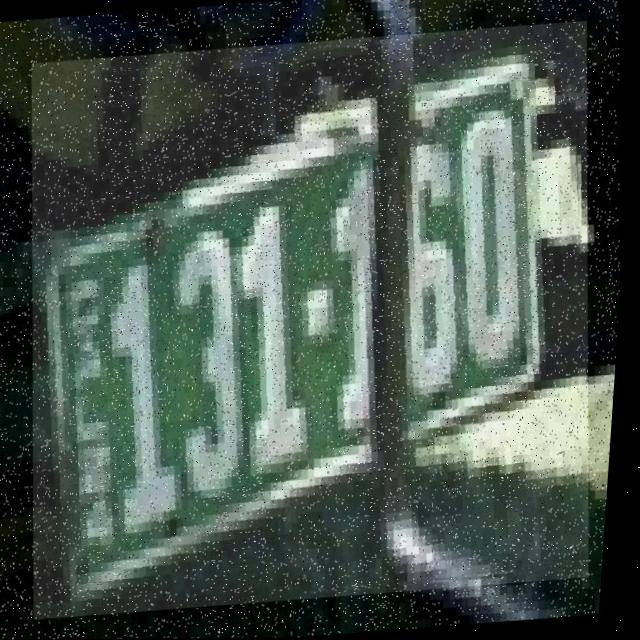LicensePlate: (3, 21, 625, 620)
